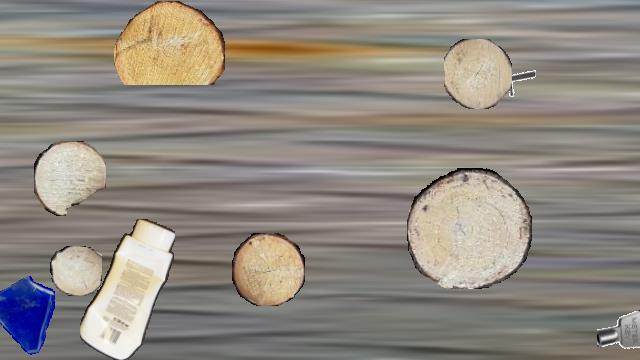glass: (0, 275, 64, 359)
metal: (597, 306, 640, 356), (498, 61, 536, 99)
plastic: (80, 219, 174, 359)
wood: (407, 168, 531, 288), (114, 1, 224, 85), (34, 141, 106, 215), (232, 233, 304, 305), (444, 39, 512, 109), (50, 246, 102, 296)
